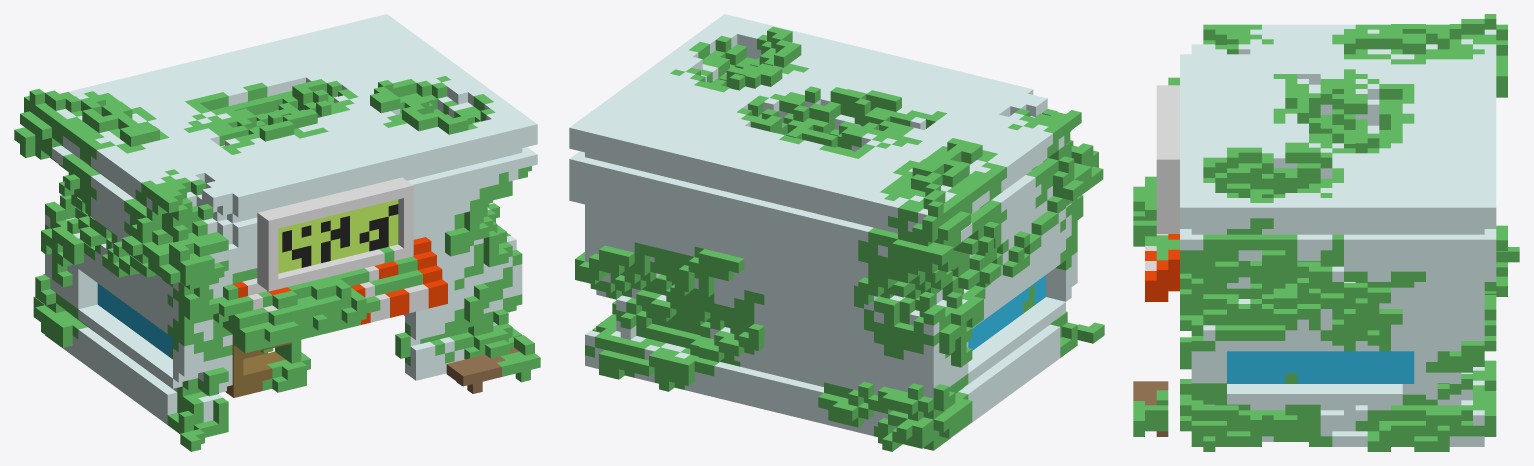
Rendered from general store.obj.
The picture shows the model from 3 angles, left to right: view 1: azimuth 30°, elevation 25°; view 2: azimuth 150°, elevation 25°; view 3: azimuth 270°, elevation 25°; orthographic projection. The views are drawn at different scales.
Size of the model in its own units: 4 by 2.4 by 3.3.
1 material, 1 textured.
